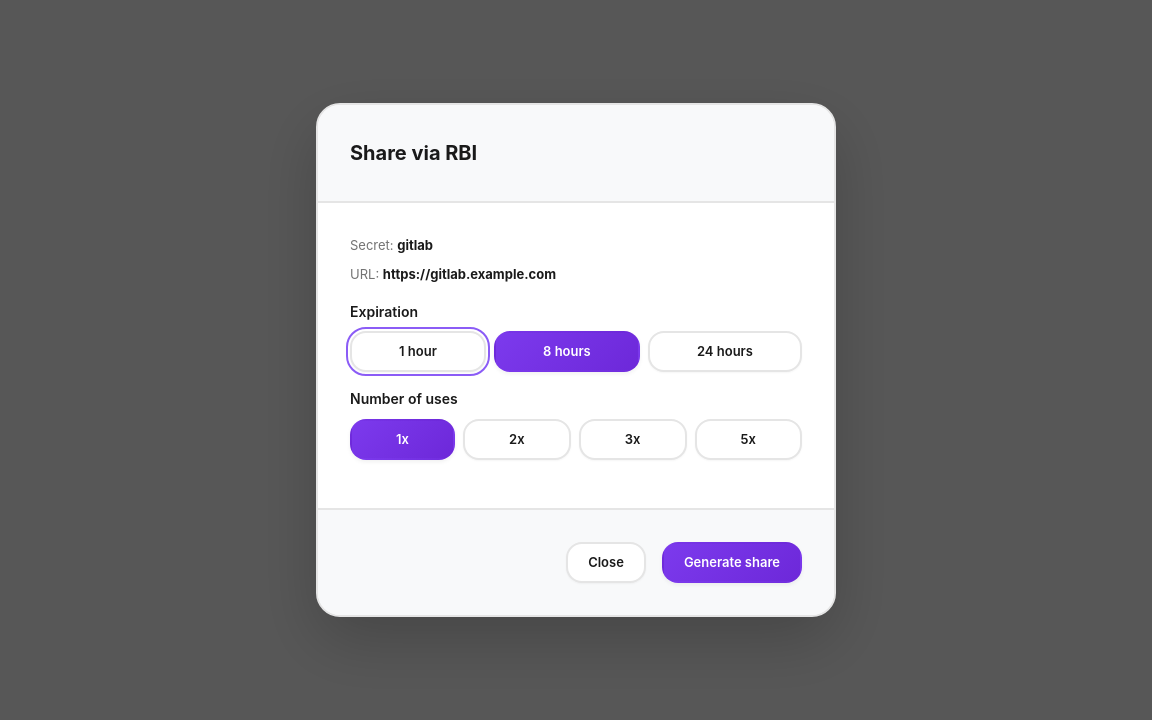
Test: REMOTE-4 — wrapping token jamais laissé orphelin › partage enregistré : le wrapping token n'est PAS consommé (il appartient au proxy)
Click the button "Generate share": click(732, 562) [662, 542, 802, 583]
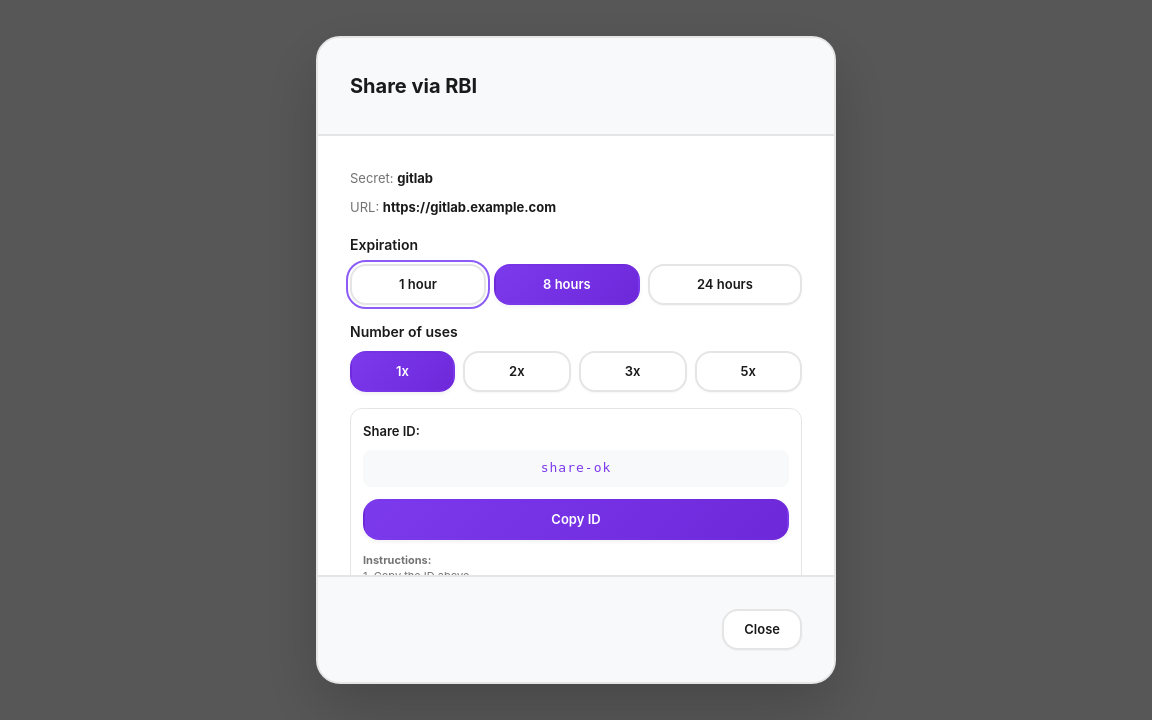
Now the text "share-ok" is shown, box [363, 450, 789, 487]
